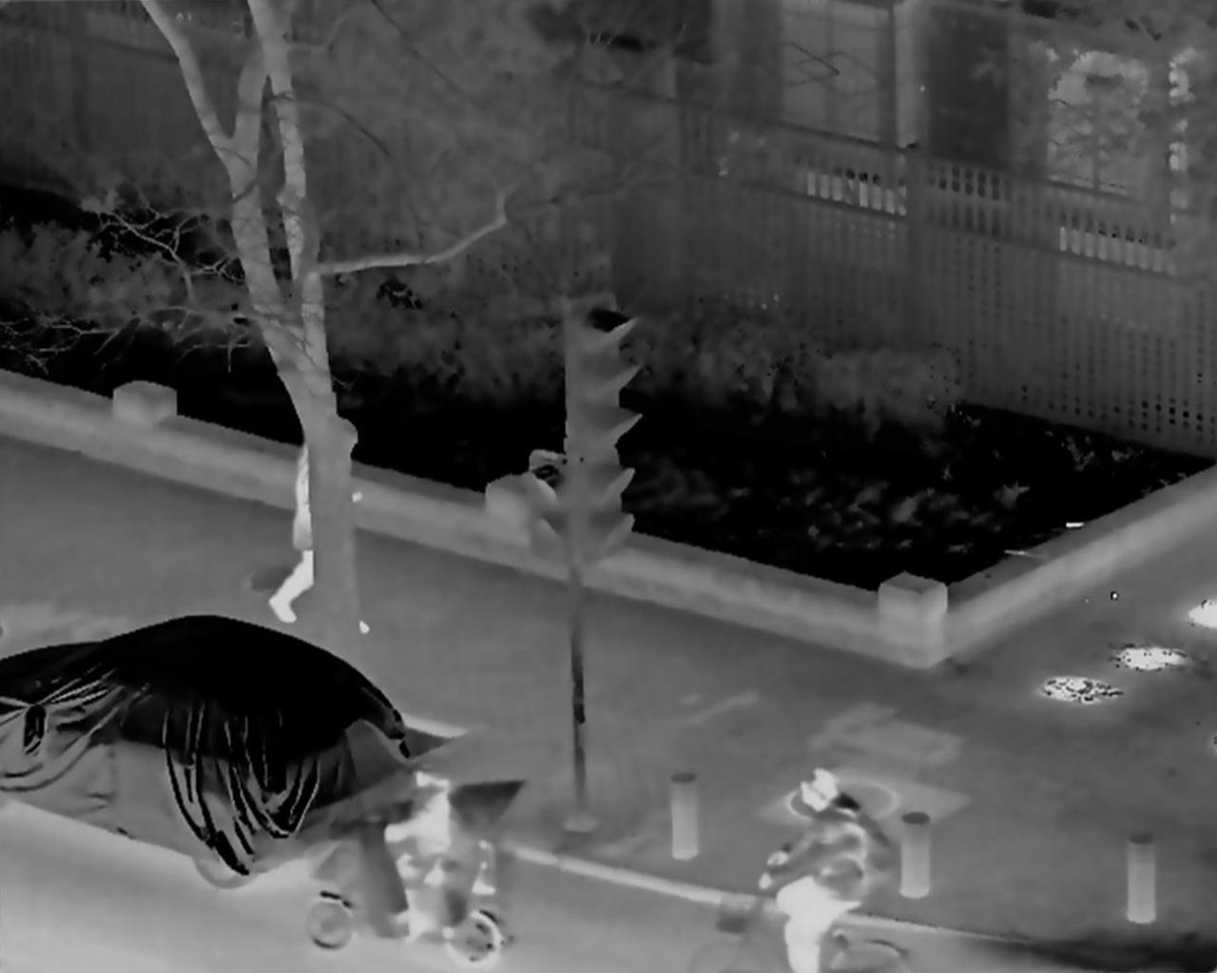person: (763, 770, 880, 973), (272, 429, 373, 635), (376, 753, 469, 935)
